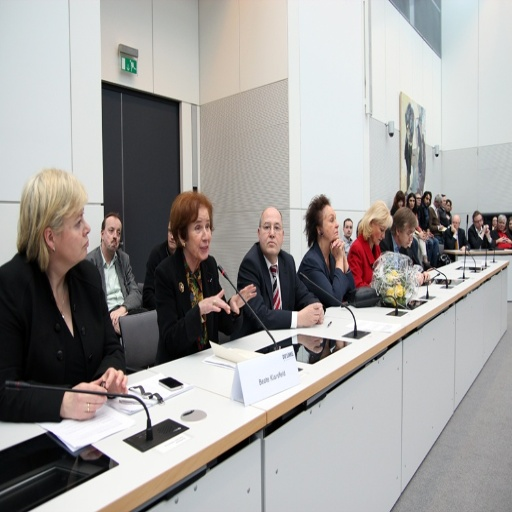hand: (52, 378, 100, 423), (98, 364, 128, 397), (229, 279, 257, 313), (199, 286, 230, 313), (296, 301, 320, 328), (109, 305, 126, 324), (331, 235, 344, 259), (329, 238, 340, 259), (412, 269, 421, 286), (318, 301, 324, 324), (421, 267, 429, 279), (451, 219, 457, 235), (503, 231, 510, 243), (418, 231, 425, 242), (436, 222, 444, 231), (457, 242, 465, 251), (481, 221, 487, 232), (484, 227, 490, 238), (427, 231, 433, 241), (499, 232, 504, 242)
